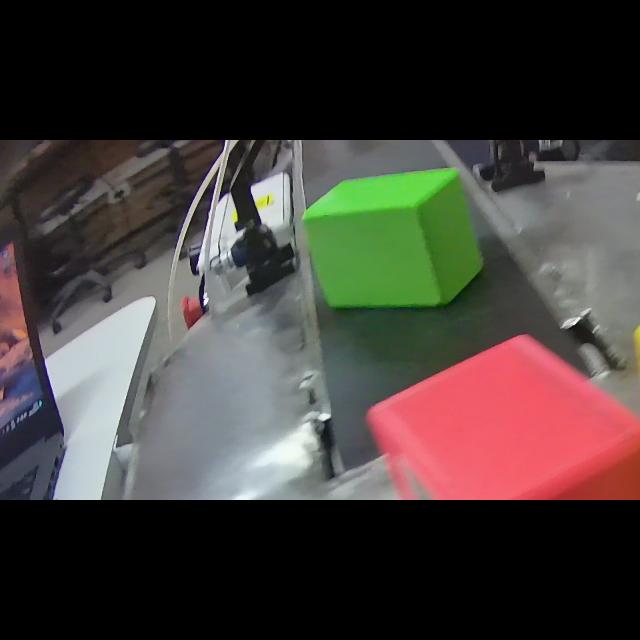greenBox: (298, 160, 490, 316)
redBox: (360, 332, 640, 500)
yellowBox: (628, 268, 640, 500)
